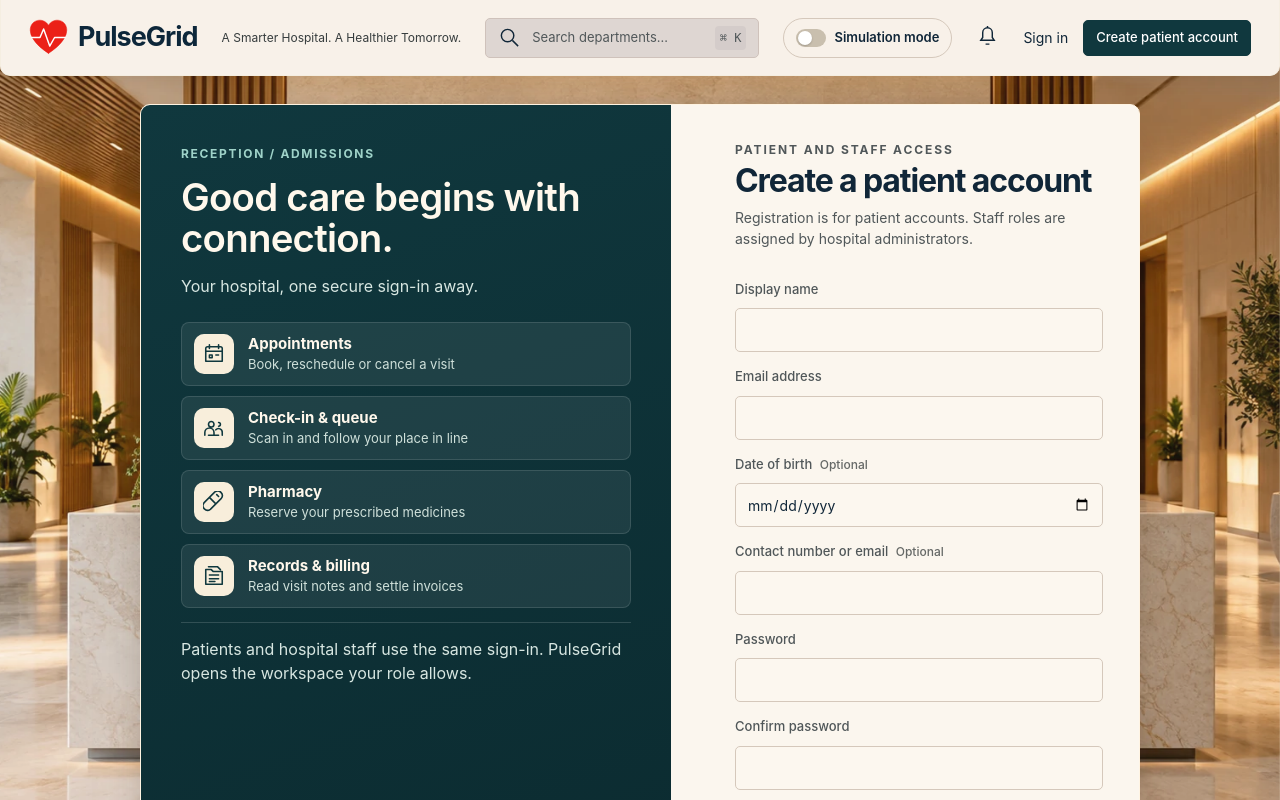
Test case: authentication pages › handles registration network errors
The image size is (1280, 800).
Expected: the heading "Create a patient account" is shown, [735,163,1103,199]
Type "Synthetic Patient" into the field labelled "Display name". click: (919, 330)
box: [735,308,1103,352]
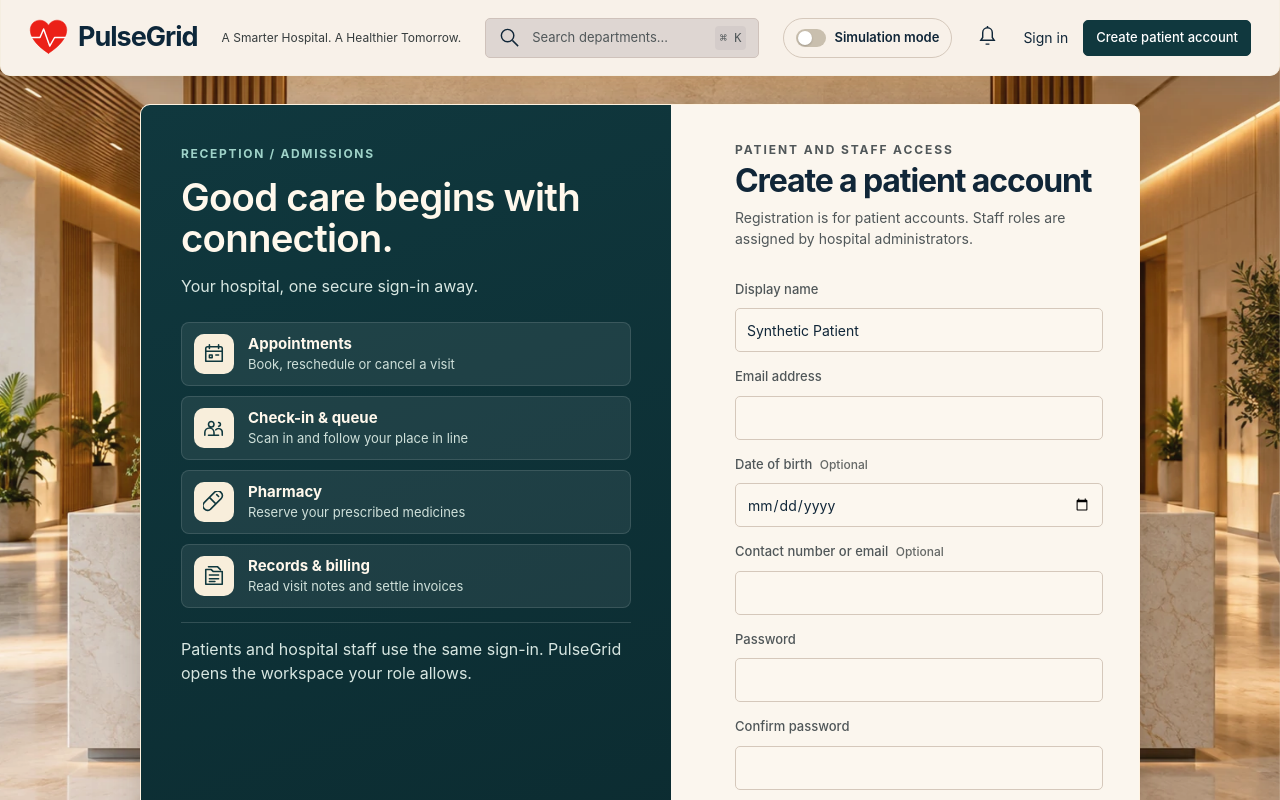
Type "patient@example.test" into the field labelled "Email address". click: (919, 418)
box: [735,396,1103,440]
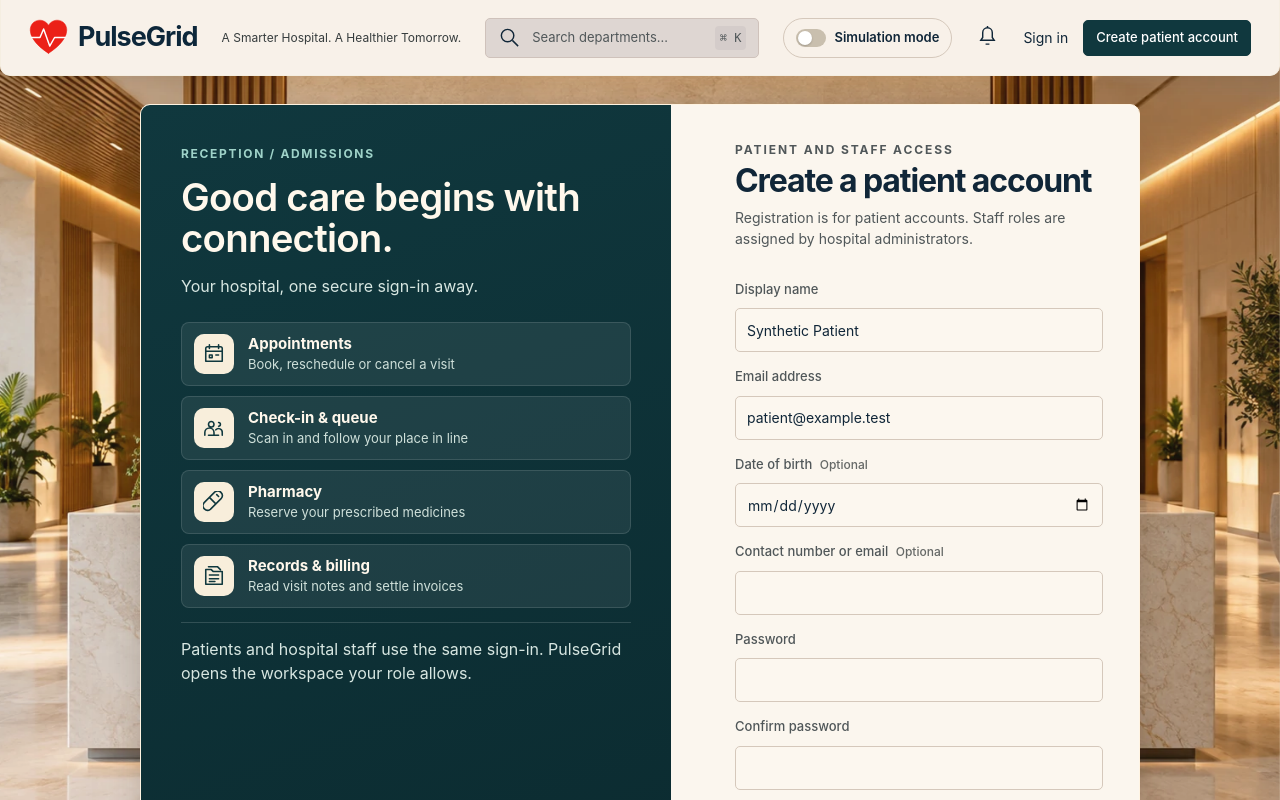
Type "long synthetic passphrase" into the password field labelled "Password". click: (919, 680)
box: [735,658,1103,702]
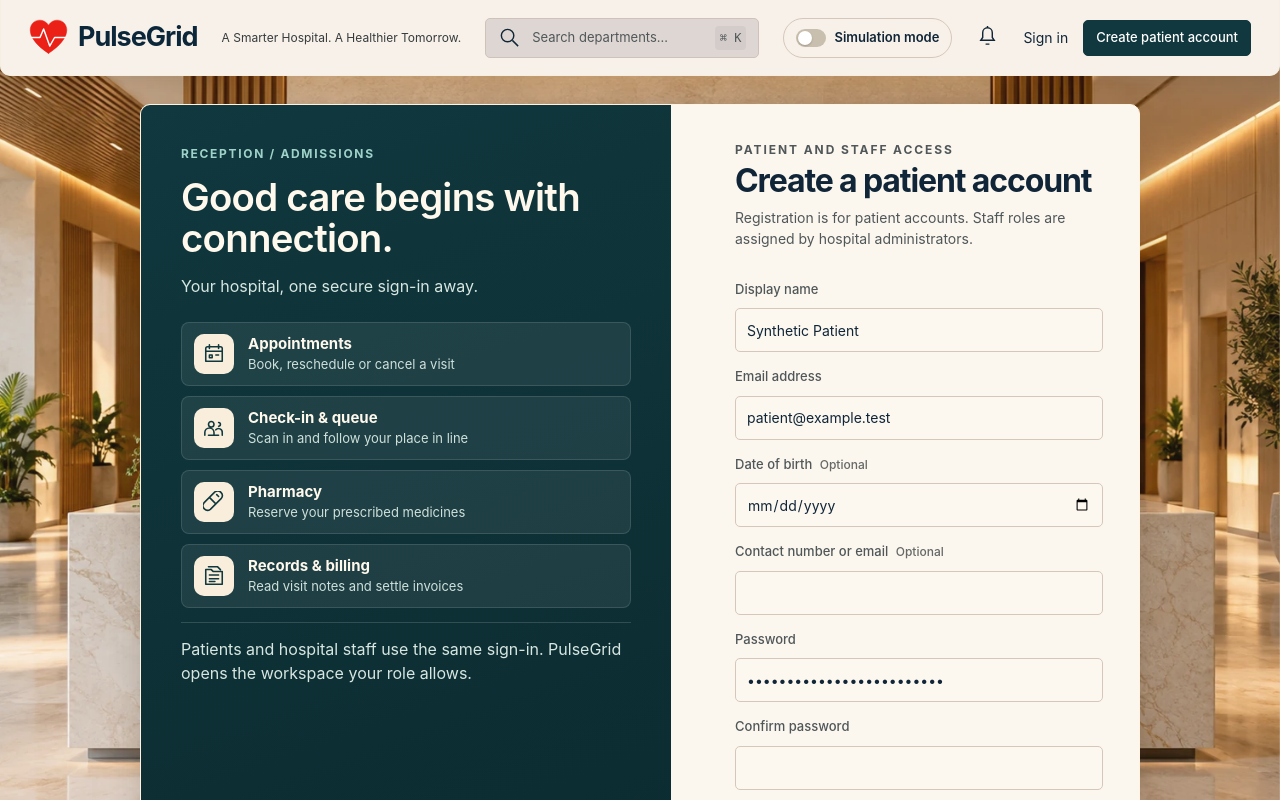
Type "long synthetic passphrase" into the password field labelled "Confirm password". click: (919, 768)
box: [735,746,1103,790]
(page scrolled)
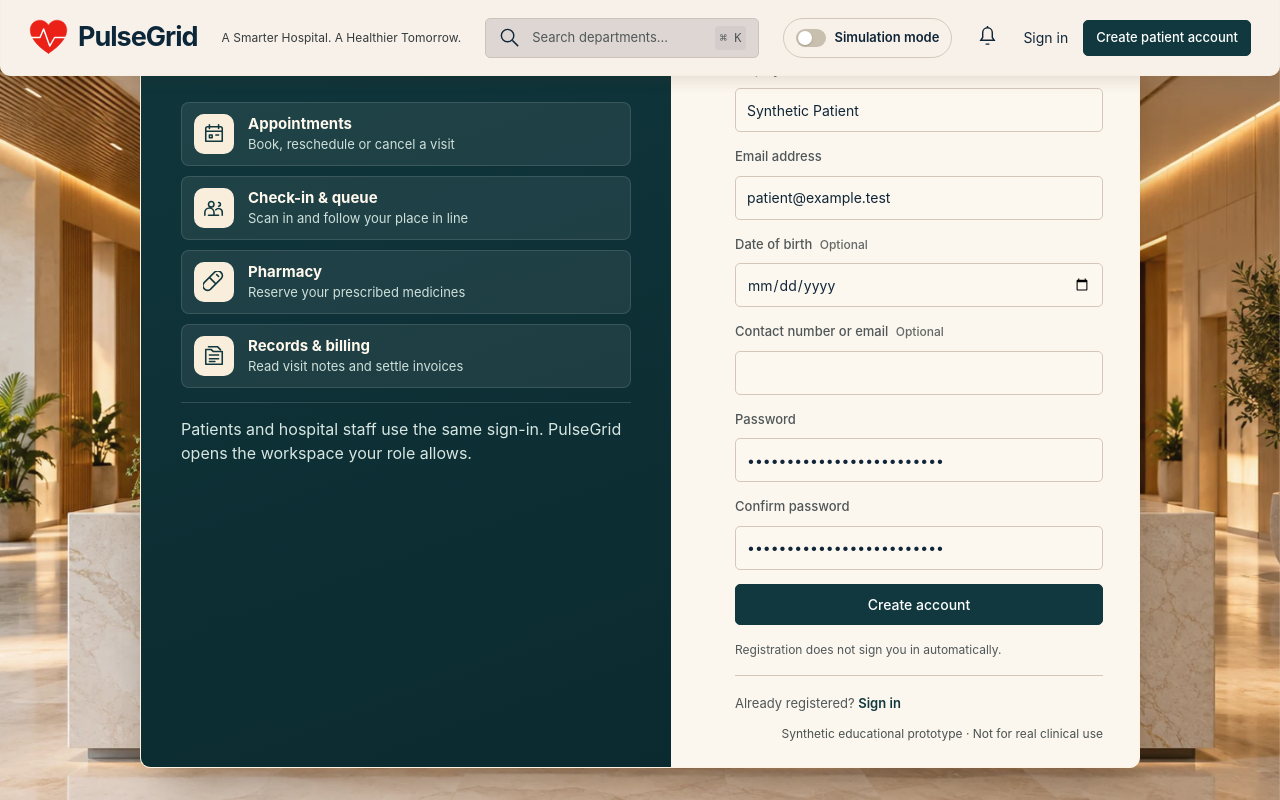
Click the button "Create account". click: (919, 604)
box: [735,584,1103,625]
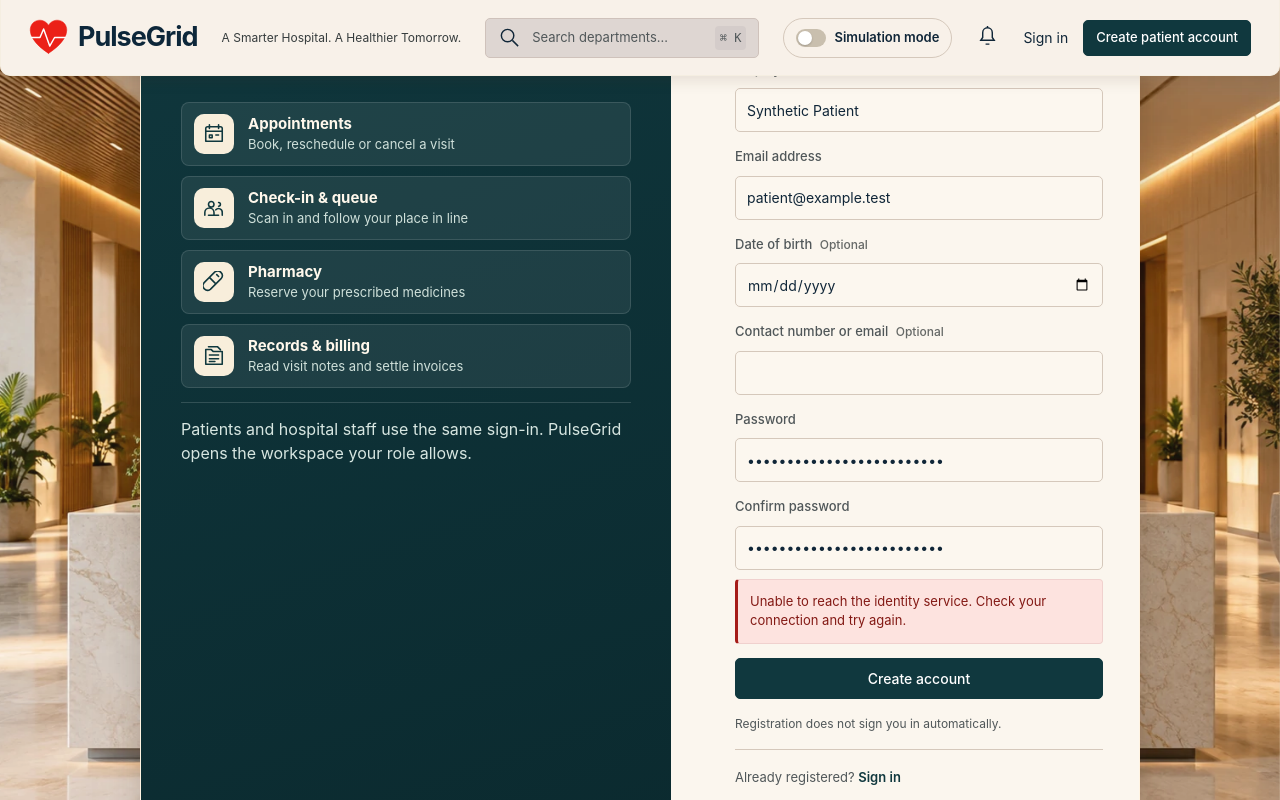
Now the message shows "Unable to reach the identity service.", box [750,593,1046,628]
